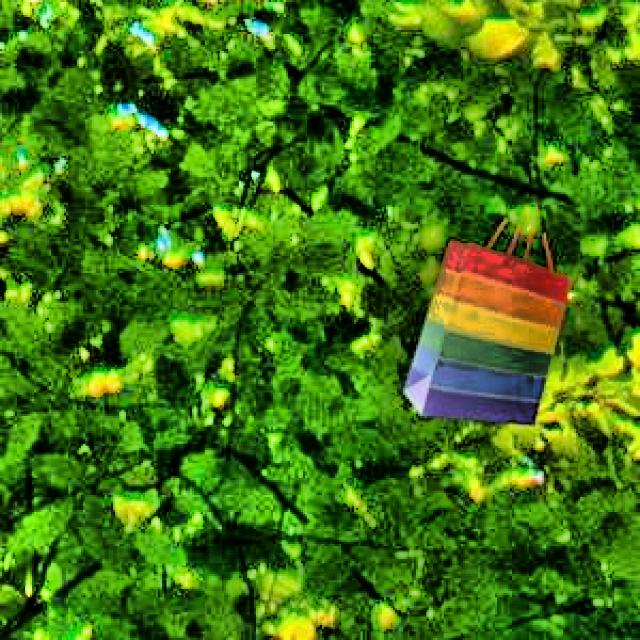Paper-bag: (385, 195, 572, 454)
